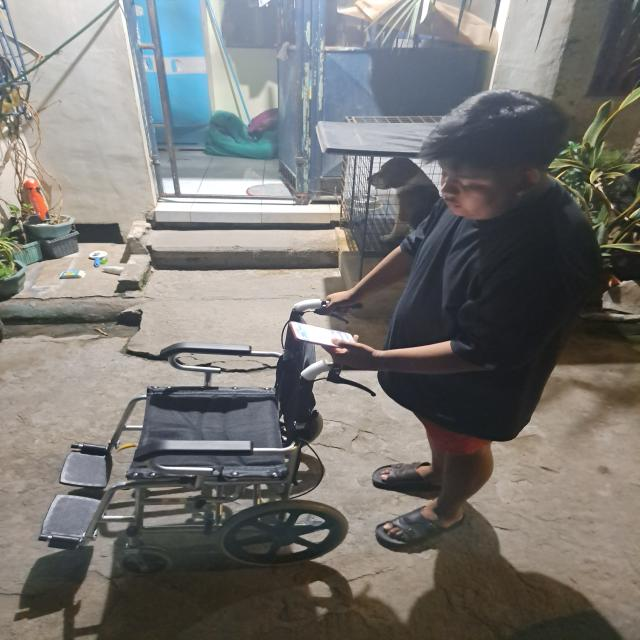wheelchairs: (37, 292, 355, 572)
